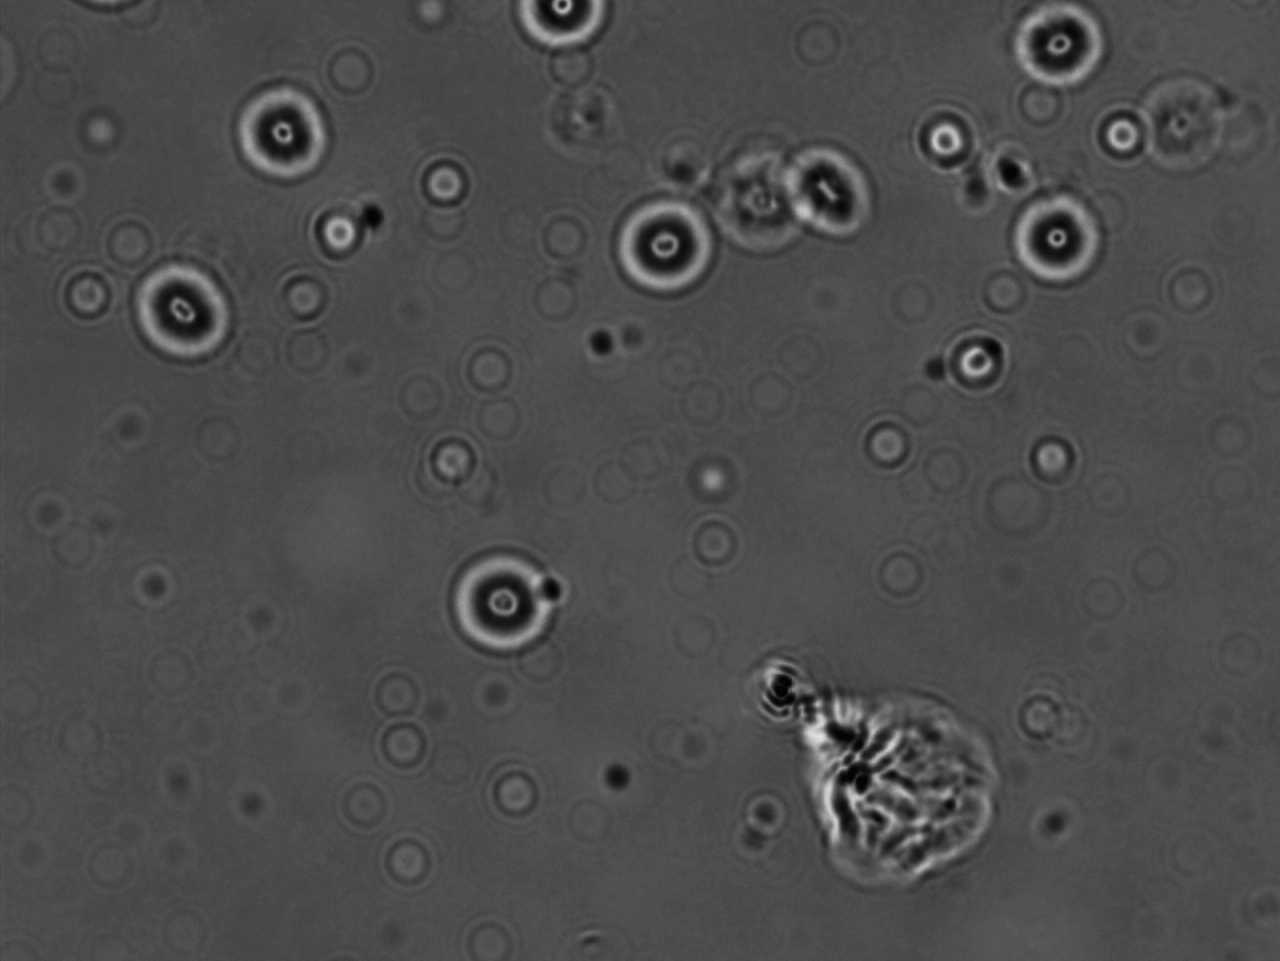depth:-8: (445, 542, 569, 662), (128, 253, 246, 380), (778, 138, 900, 259), (1000, 181, 1122, 298), (600, 185, 719, 296), (233, 80, 340, 201)
